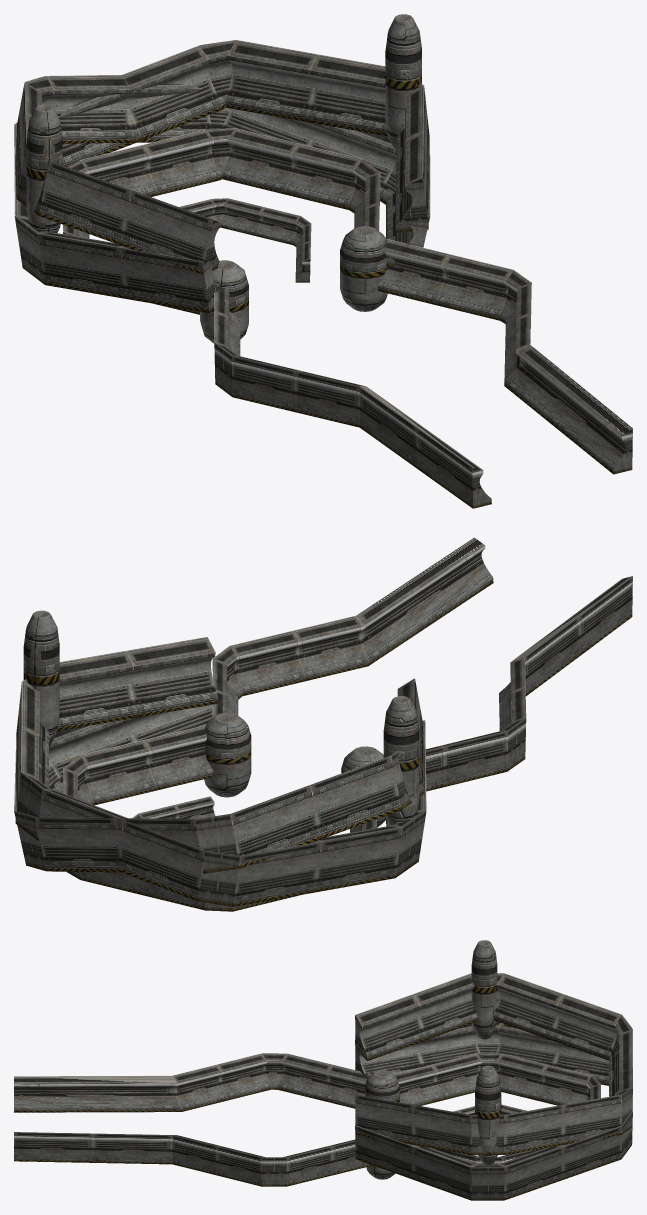
The model's file is huge_wall.FBX.
The picture shows the model from 3 angles, top to bottom: view 1: azimuth 30°, elevation 25°; view 2: azimuth 150°, elevation 25°; view 3: azimuth 270°, elevation 25°; orthographic projection. The views are drawn at different scales.
Visible parts, largest first — view 1: Line06, Line07, Line05, Line03, Line04, ChamferCyl02, ChamferCyl05, ChamferCyl03, ChamferCyl04; view 2: Line06, Line07, Line05, Line03, ChamferCyl02, ChamferCyl05, ChamferCyl03, Line04, ChamferCyl04; view 3: Line07, Line05, Line06, Line03, ChamferCyl03, ChamferCyl02, ChamferCyl04.
Boxes of the visible parts, box(x1,y1,x2,y2) form: Line06: box(14, 40, 429, 313); Line07: box(214, 239, 632, 508); Line05: box(15, 75, 430, 274); Line03: box(63, 128, 380, 314); Line04: box(179, 198, 311, 282); ChamferCyl02: box(385, 14, 421, 151); ChamferCyl05: box(340, 226, 387, 311); ChamferCyl03: box(26, 104, 62, 232); ChamferCyl04: box(200, 260, 248, 343); Line06: box(15, 636, 426, 906); Line07: box(212, 537, 632, 791); Line05: box(14, 678, 424, 873); Line03: box(63, 725, 376, 911); ChamferCyl02: box(23, 610, 59, 746); ChamferCyl05: box(204, 712, 251, 797); ChamferCyl03: box(383, 696, 419, 825); Line04: box(132, 796, 215, 818); ChamferCyl04: box(341, 746, 385, 827); Line07: box(14, 1053, 372, 1186); Line05: box(355, 973, 632, 1200); Line06: box(355, 1021, 632, 1155); Line03: box(393, 1053, 600, 1164); ChamferCyl03: box(471, 940, 497, 1039); ChamferCyl02: box(475, 1065, 501, 1164); ChamferCyl04: box(365, 1070, 399, 1102).
Size of the model in its own units: 1397 by 713 by 2677.
